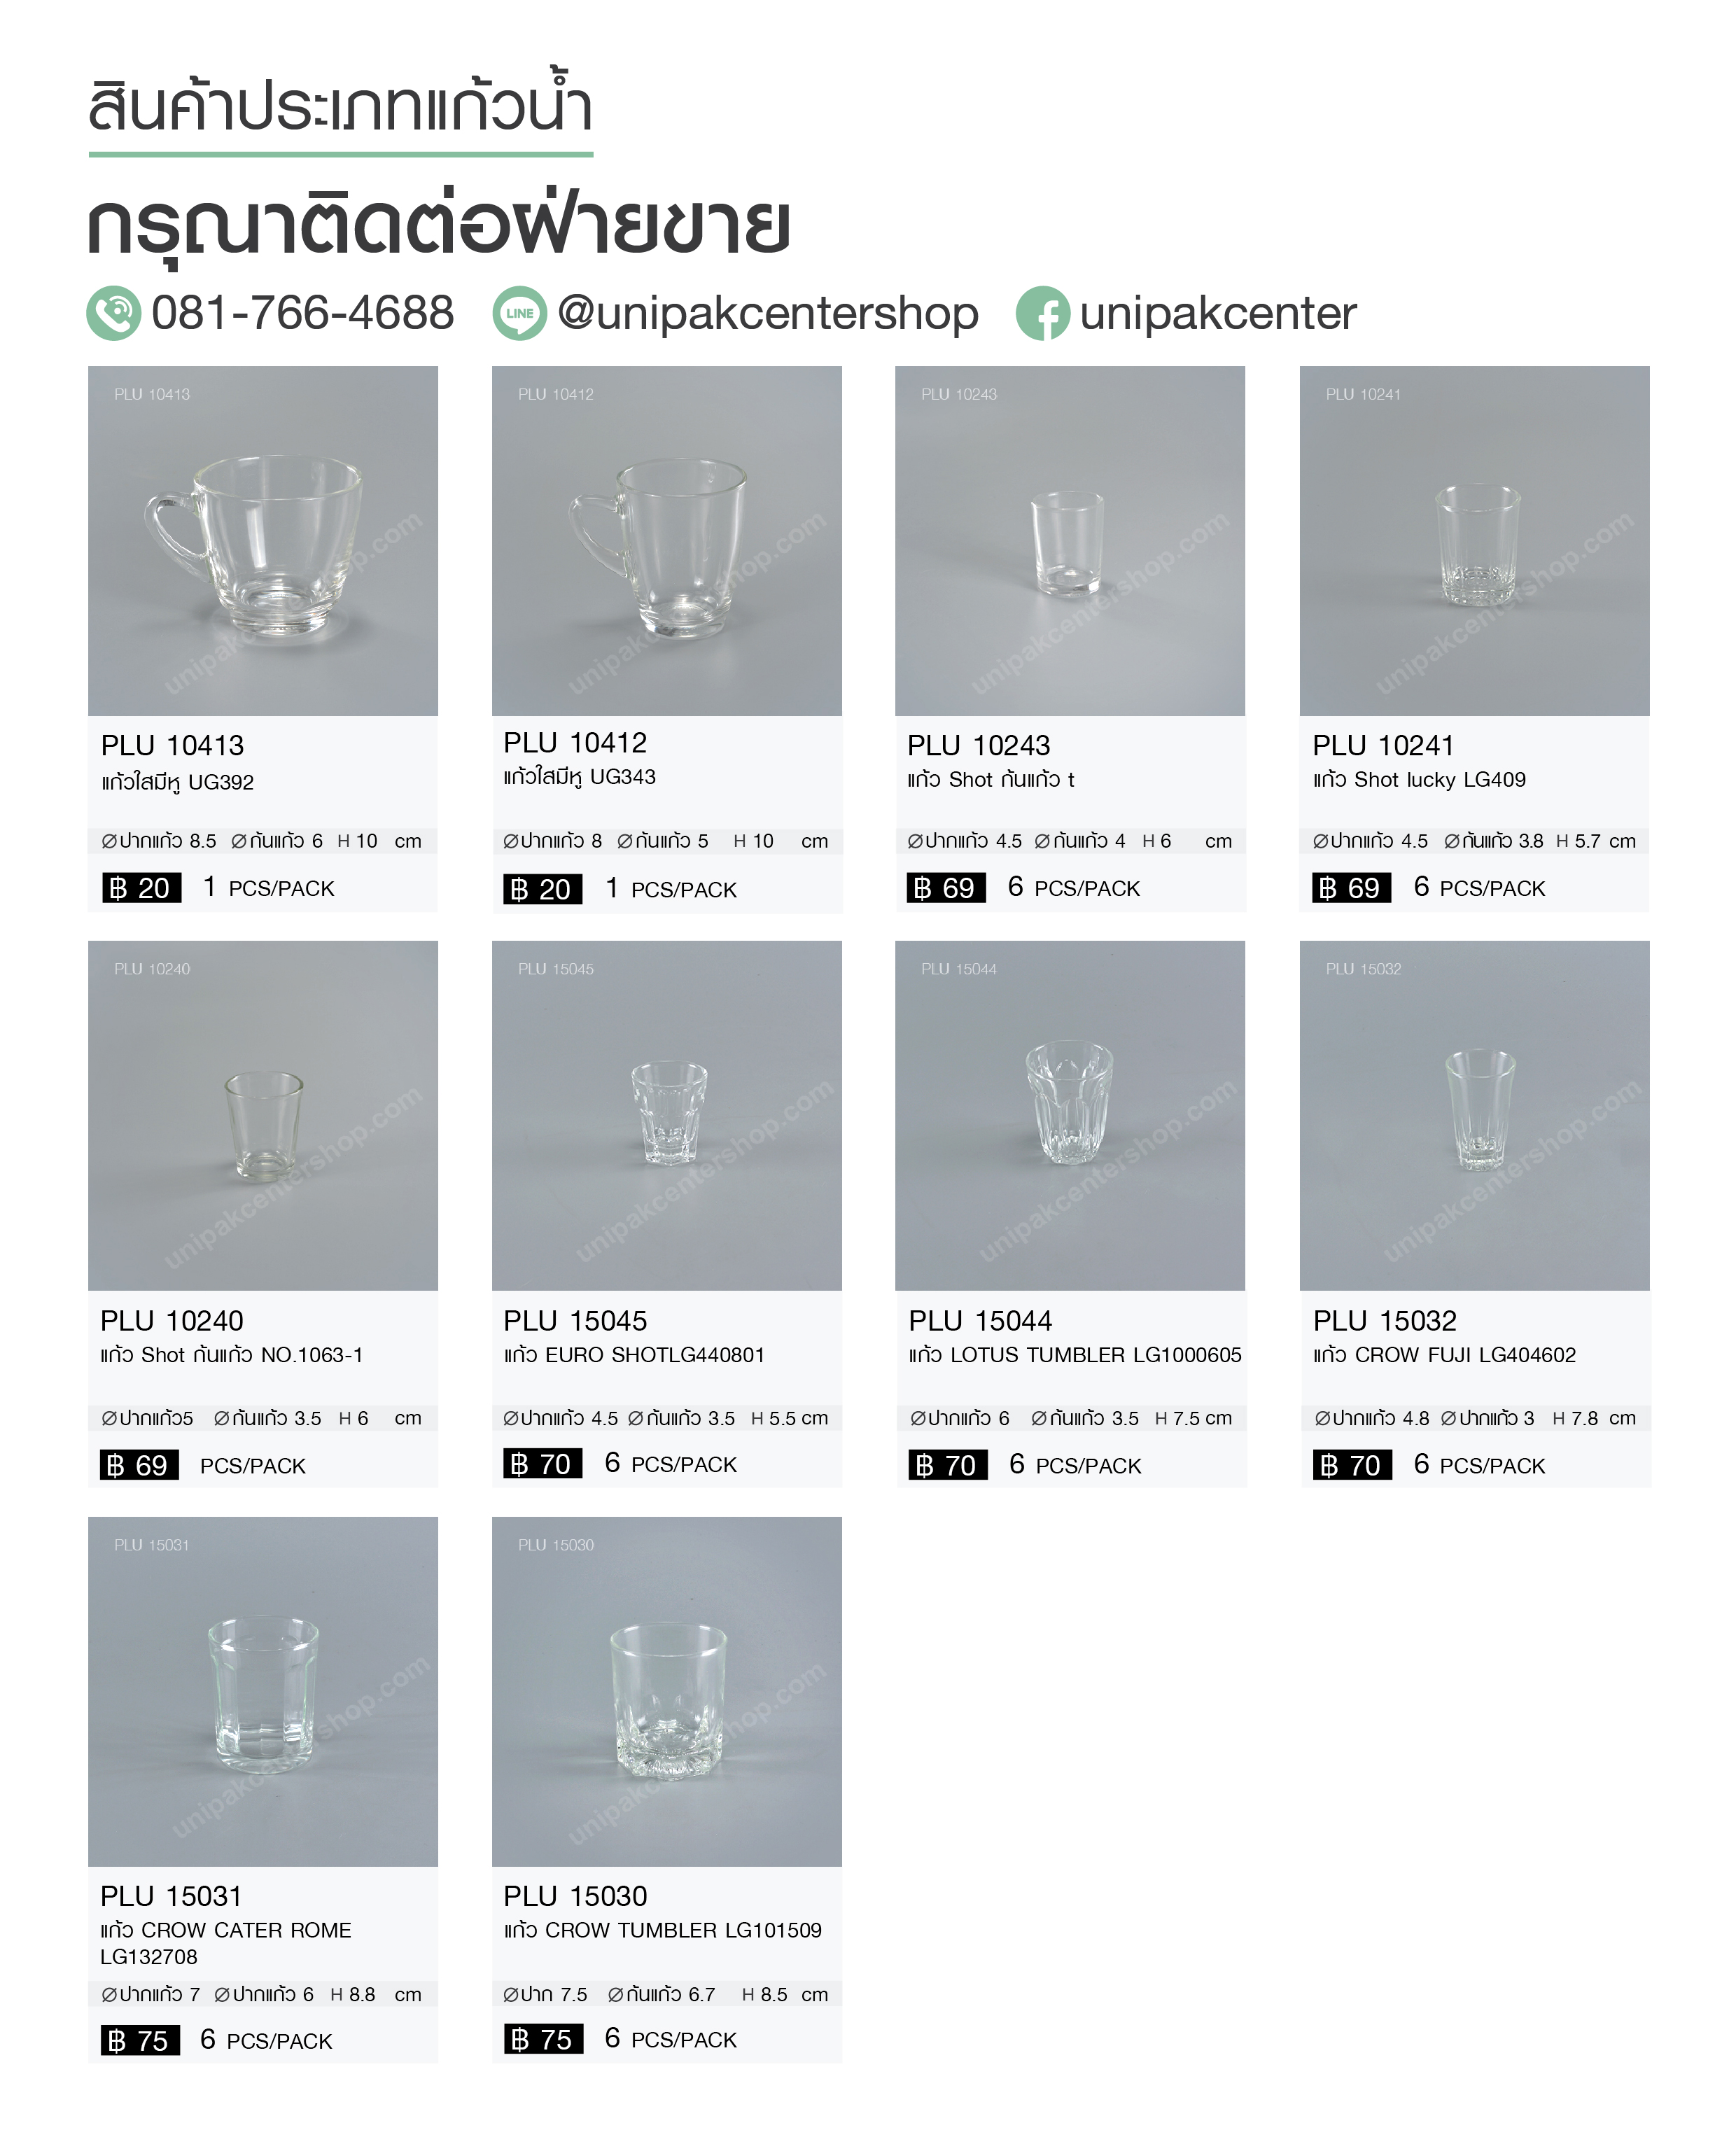glass_bottle: (140, 450, 395, 654), (560, 445, 755, 656), (593, 1605, 732, 1807), (197, 1598, 324, 1784), (1419, 470, 1539, 631), (1006, 482, 1132, 613), (213, 1045, 317, 1187), (611, 1051, 716, 1192), (1020, 1033, 1118, 1182), (1433, 1042, 1531, 1178)
